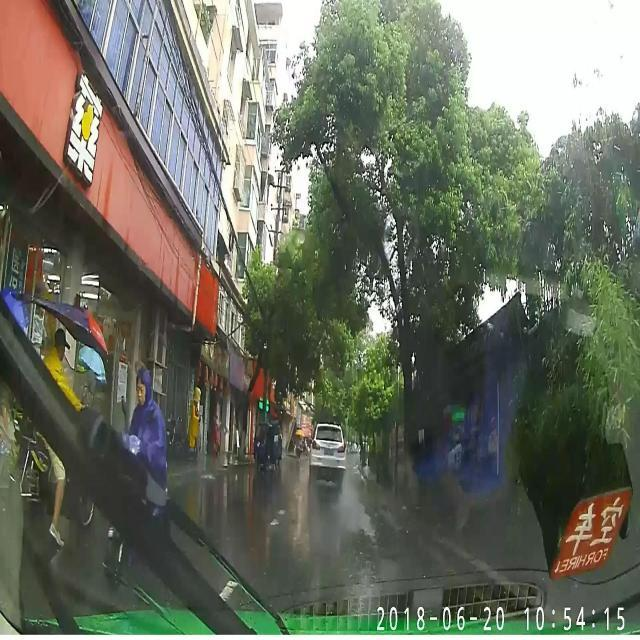car: (310, 423, 344, 486)
